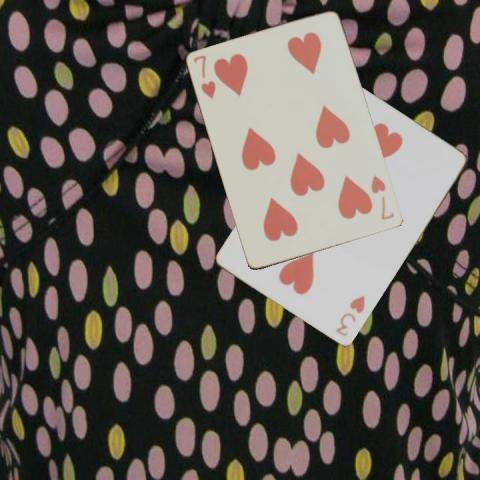3h: (332, 293, 366, 338)
7h: (368, 172, 396, 222), (191, 52, 218, 100)
